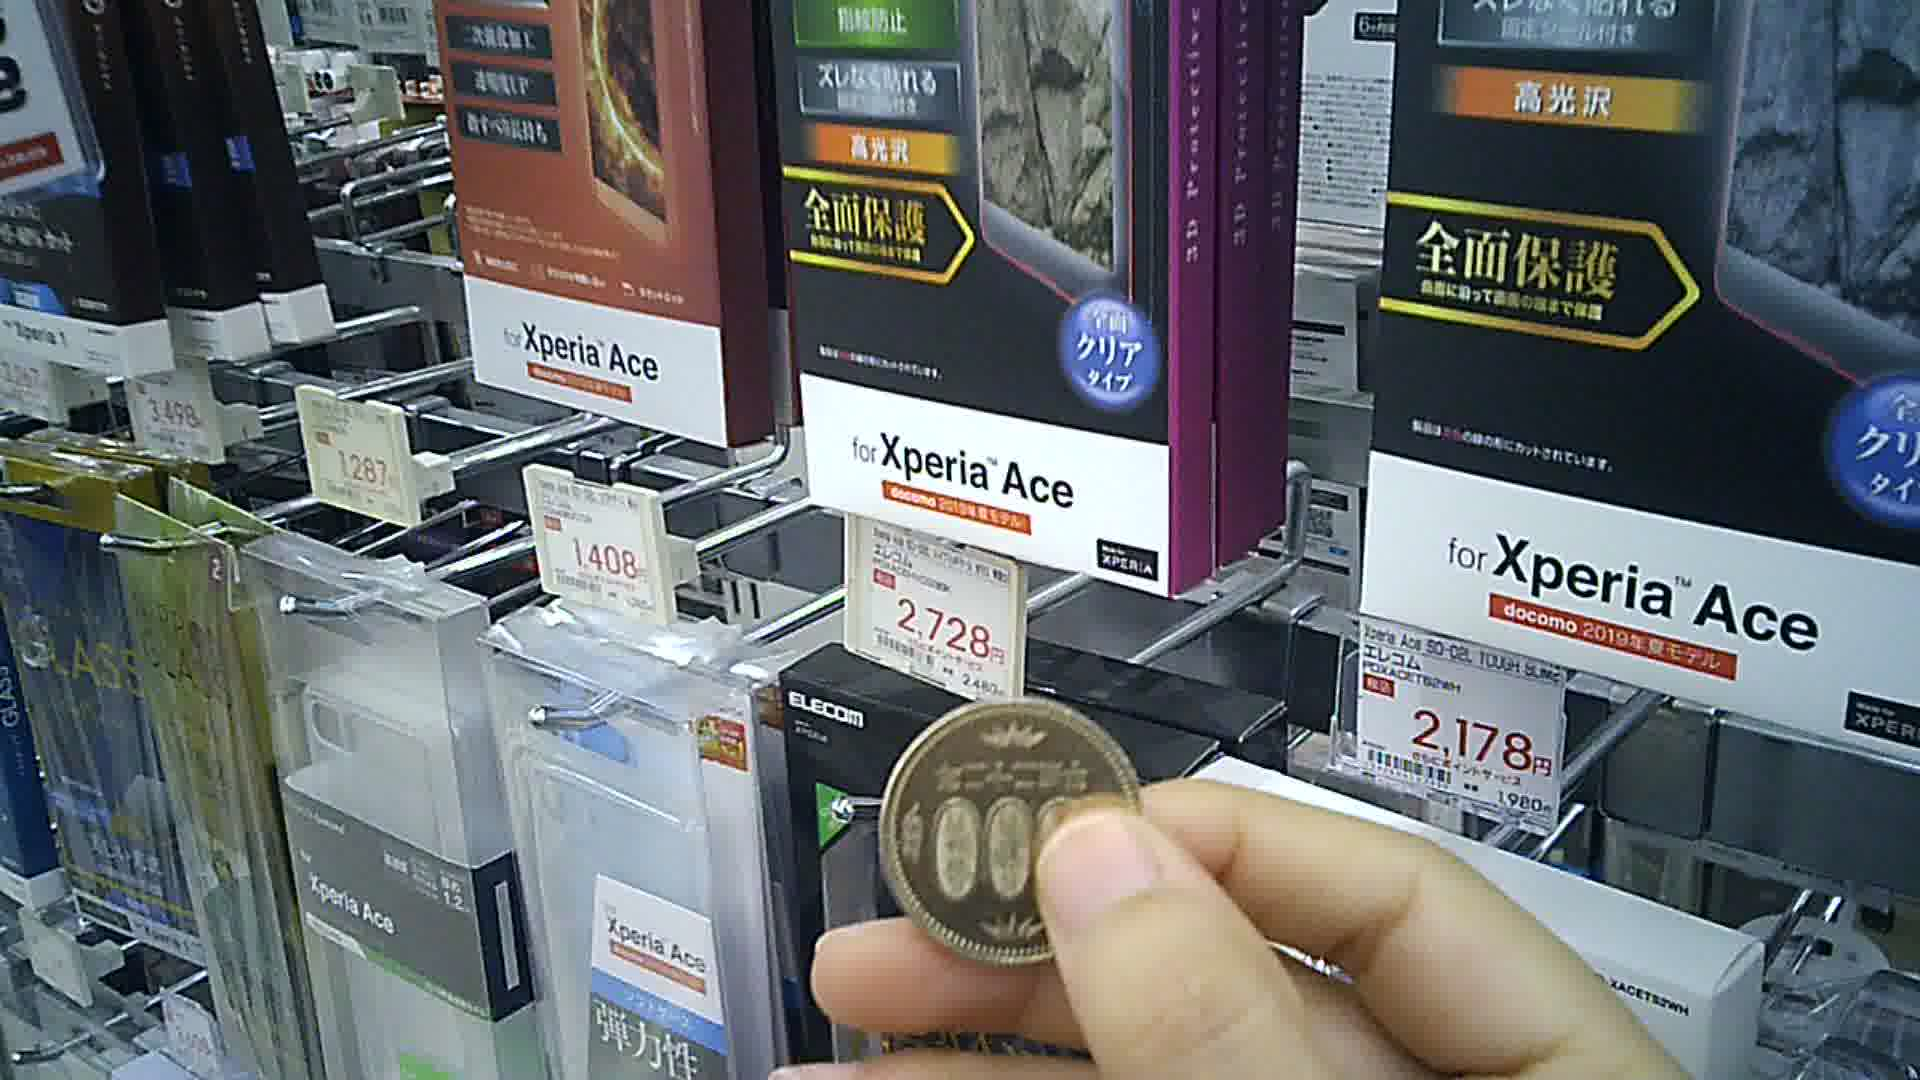500 Yen: (876, 694, 1159, 971)
